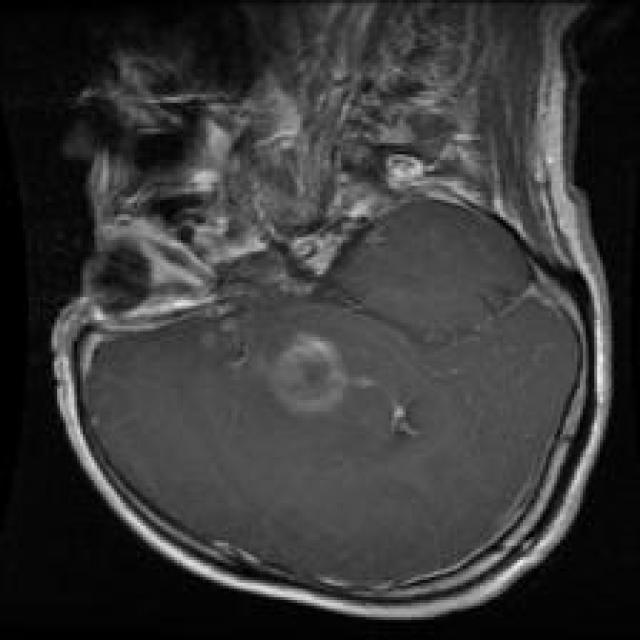glioma_tumor: (196, 321, 428, 452)
